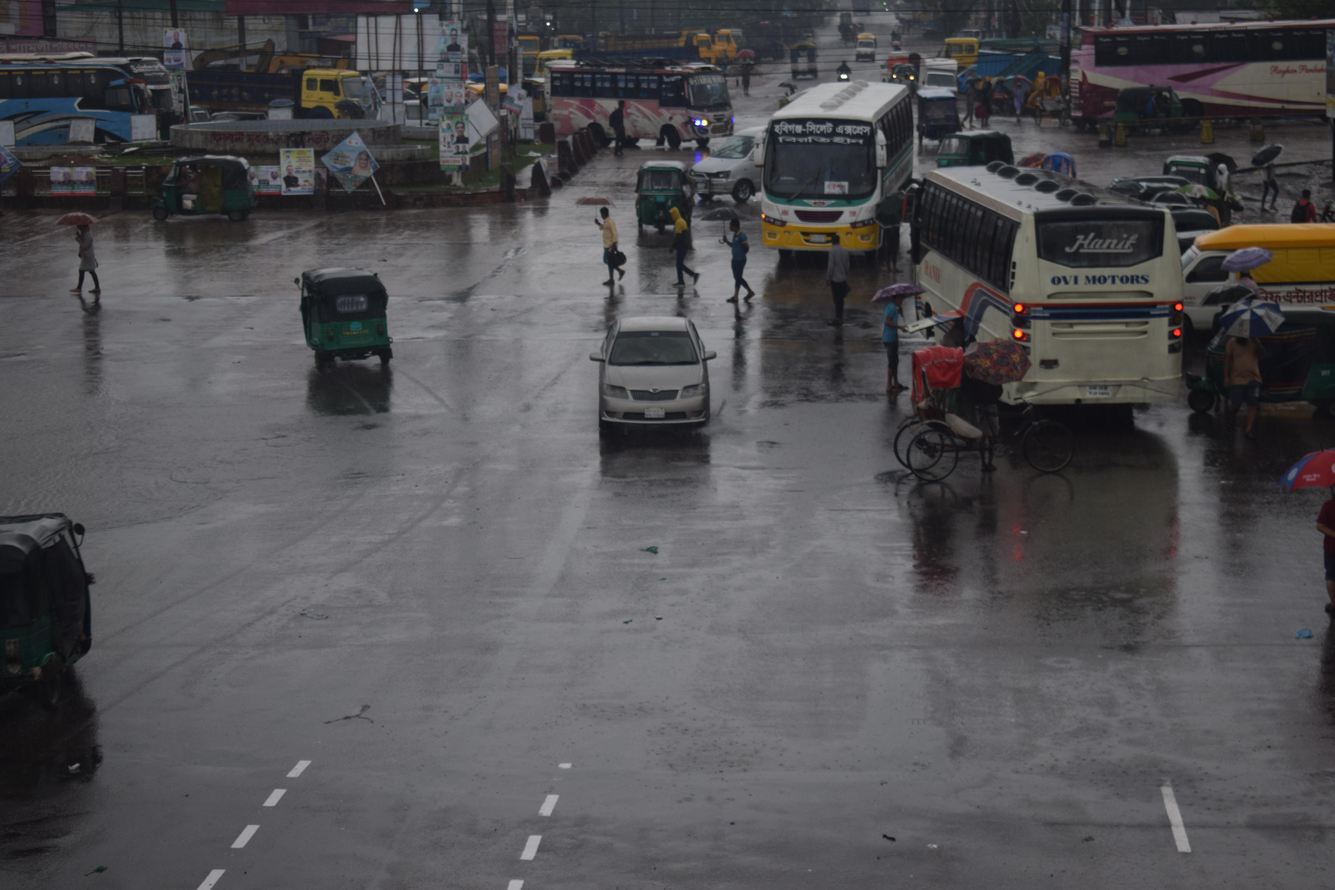Bus: (882, 146, 1204, 491), (1033, 0, 1335, 157), (740, 57, 934, 279), (0, 0, 221, 179), (535, 49, 758, 171)
Car: (878, 325, 1104, 526), (556, 288, 768, 481), (1177, 208, 1335, 332), (673, 113, 802, 231)
